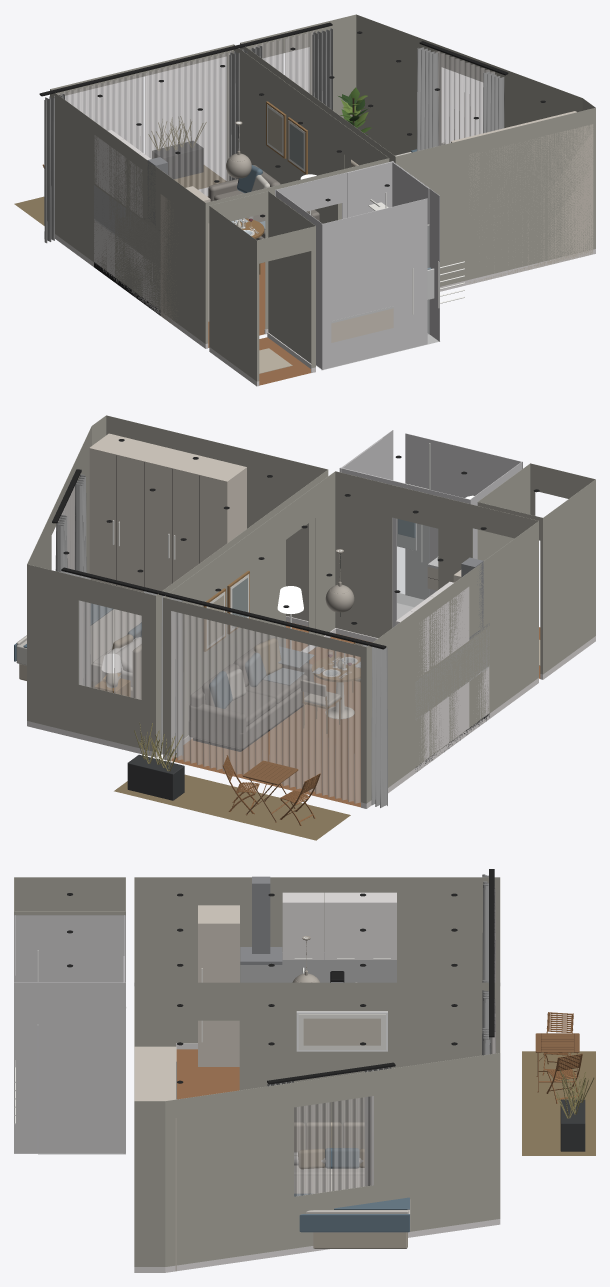
Rendered from unit-1.B-atlantic.glb.
The picture shows the model from 3 angles, top to bottom: view 1: azimuth 30°, elevation 25°; view 2: azimuth 150°, elevation 25°; view 3: azimuth 270°, elevation 25°; orthographic projection. The views are drawn at different scales.
Parts seen in each view (by area): view 1: int-wall, int-sheer, int-bathWall, int-joineryTall, int-curtain, int-joinery, int-showerWall, int-matteBlack, int-skirting, int-splash, int-outdoor, int-deck (+11 smaller); view 2: int-wall, int-sheer, int-joineryTall, int-floor, int-bathWall, int-curtain, int-sofa, int-deck, int-joinery, int-skirting, int-glass, int-matteBlack (+19 smaller); view 3: int-wall, int-bathWall, int-joineryTall, int-joinery, int-sheer, int-deck, int-headboard, int-splash, int-bedThrow, int-art:7:2, int-floor, int-steel (+13 smaller).
Part boxes in pixels (box(x1,y1,x2,y2)): int-wall: box(50, 14, 595, 381); int-sheer: box(58, 30, 494, 196); int-bathWall: box(275, 161, 439, 369); int-joineryTall: box(160, 111, 593, 342); int-curtain: box(44, 28, 504, 243); int-joinery: box(94, 130, 160, 308); int-showerWall: box(347, 161, 429, 333); int-matteBlack: box(39, 22, 508, 315); int-skirting: box(55, 234, 595, 386); int-splash: box(94, 185, 160, 256); int-outdoor: box(152, 141, 203, 178); int-deck: box(14, 165, 226, 225); int-wall: box(27, 415, 595, 803); int-sheer: box(55, 486, 360, 803); int-joineryTall: box(89, 433, 461, 592); int-floor: box(171, 621, 370, 807); int-bathWall: box(339, 430, 522, 627); int-curtain: box(55, 474, 387, 807); int-sofa: box(189, 641, 314, 749); int-deck: box(114, 774, 350, 840); int-joinery: box(395, 581, 489, 762); int-skirting: box(27, 616, 595, 808); int-glass: box(397, 519, 429, 606); int-matteBlack: box(52, 469, 489, 771); int-wall: box(14, 877, 500, 1266); int-bathWall: box(14, 915, 125, 1153); int-joineryTall: box(134, 905, 239, 1271); int-joinery: box(282, 892, 396, 959); int-sheer: box(294, 885, 495, 1196); int-deck: box(522, 1051, 595, 1155); int-headboard: box(294, 1122, 407, 1248); int-splash: box(240, 952, 396, 982); int-bedThrow: box(294, 1194, 409, 1232); int-art:7:2: box(303, 1018, 380, 1045); int-floor: box(176, 1049, 239, 1099); int-steel: box(240, 876, 343, 982).
Size of the model in its own units: 7.77 by 2.8 by 8.26.
